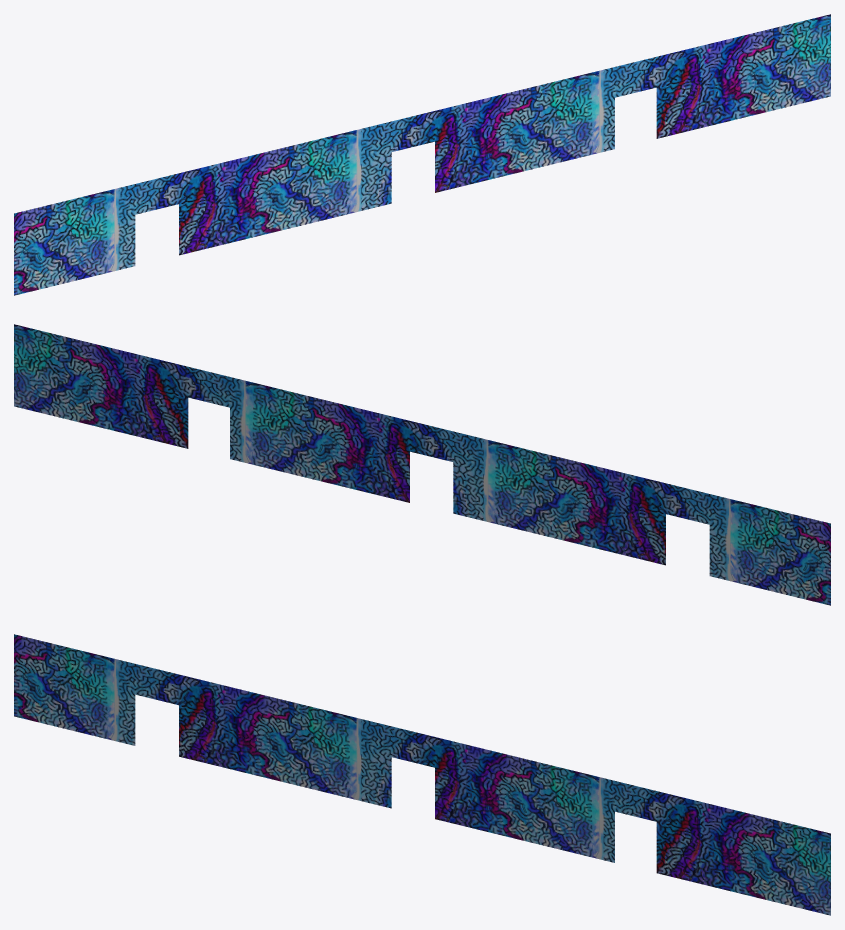
File: 3rd floor.All files.obj
3 views of the same model, one above another, from view 1: azimuth 30°, elevation 25°; view 2: azimuth 150°, elevation 25°; view 3: azimuth 330°, elevation 25° (orthographic).
Visible parts, largest first — view 1: Ceiling_strange alt; view 2: Ceiling_strange alt; view 3: Ceiling_strange alt.
Part boxes in pixels (x1,y1,x2,y2): Ceiling_strange alt: (14,14,830,295); Ceiling_strange alt: (14,324,830,605); Ceiling_strange alt: (14,634,830,915).
Bounding box in the file's own units: 49.92 × 4.8 × 0.
1 material, 1 textured.
